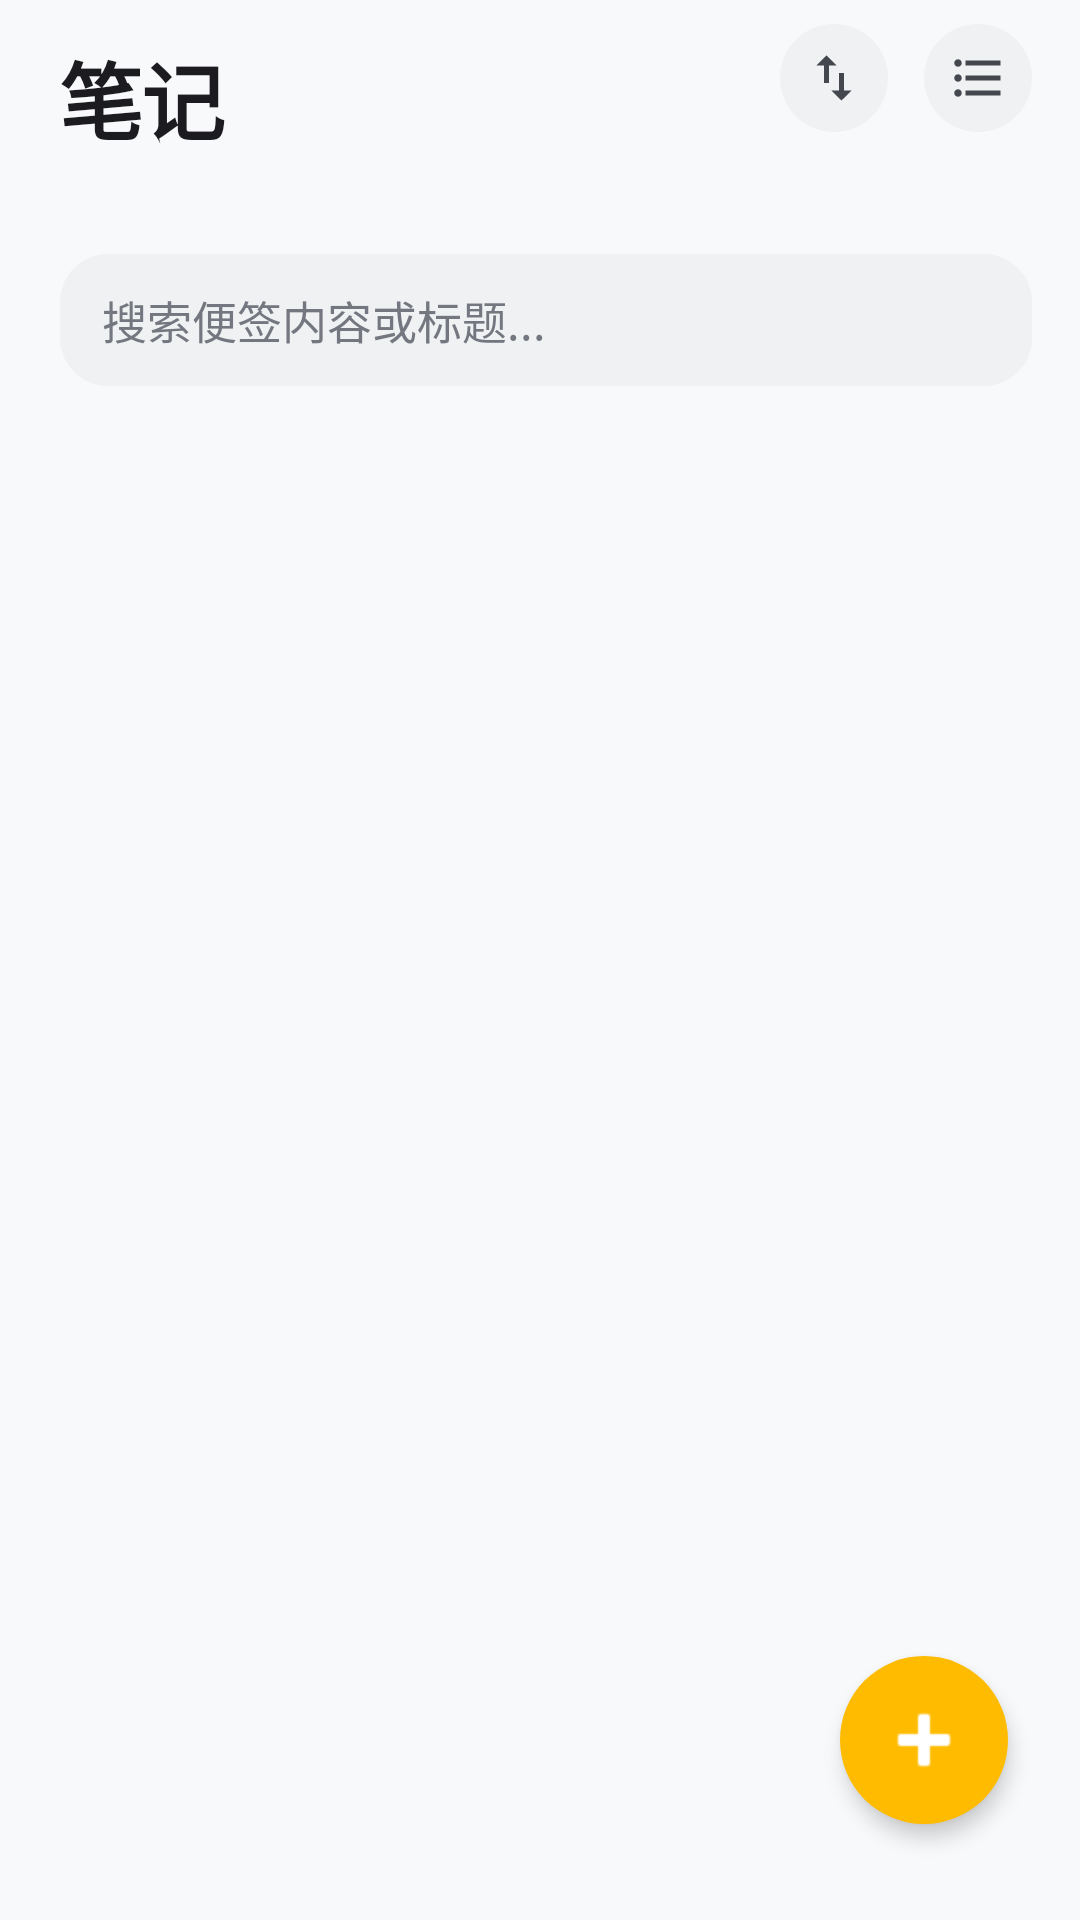

Where icons sit on this 1080×1920 app screen, as bbox=(x1, y1, x2, y2):
切换视图: bbox=(924, 24, 1032, 132)
新增便签: bbox=(840, 1656, 1008, 1824)
